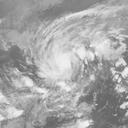cyclone: (39, 35, 91, 85)
